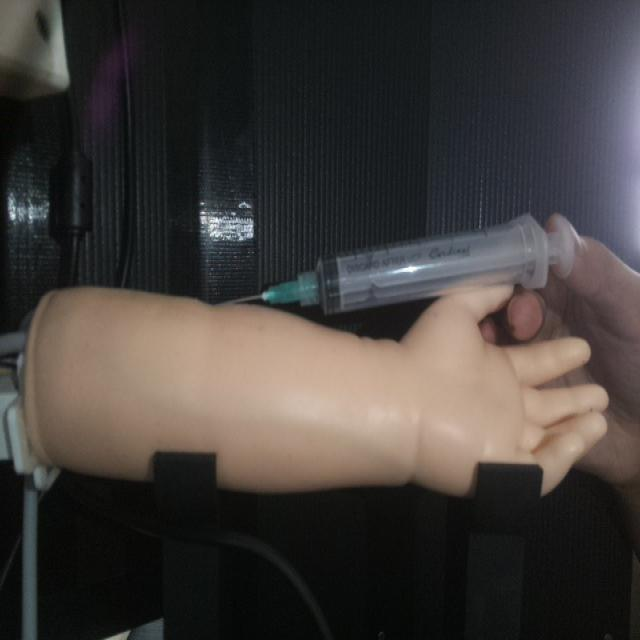Outside: (234, 210, 577, 318)
